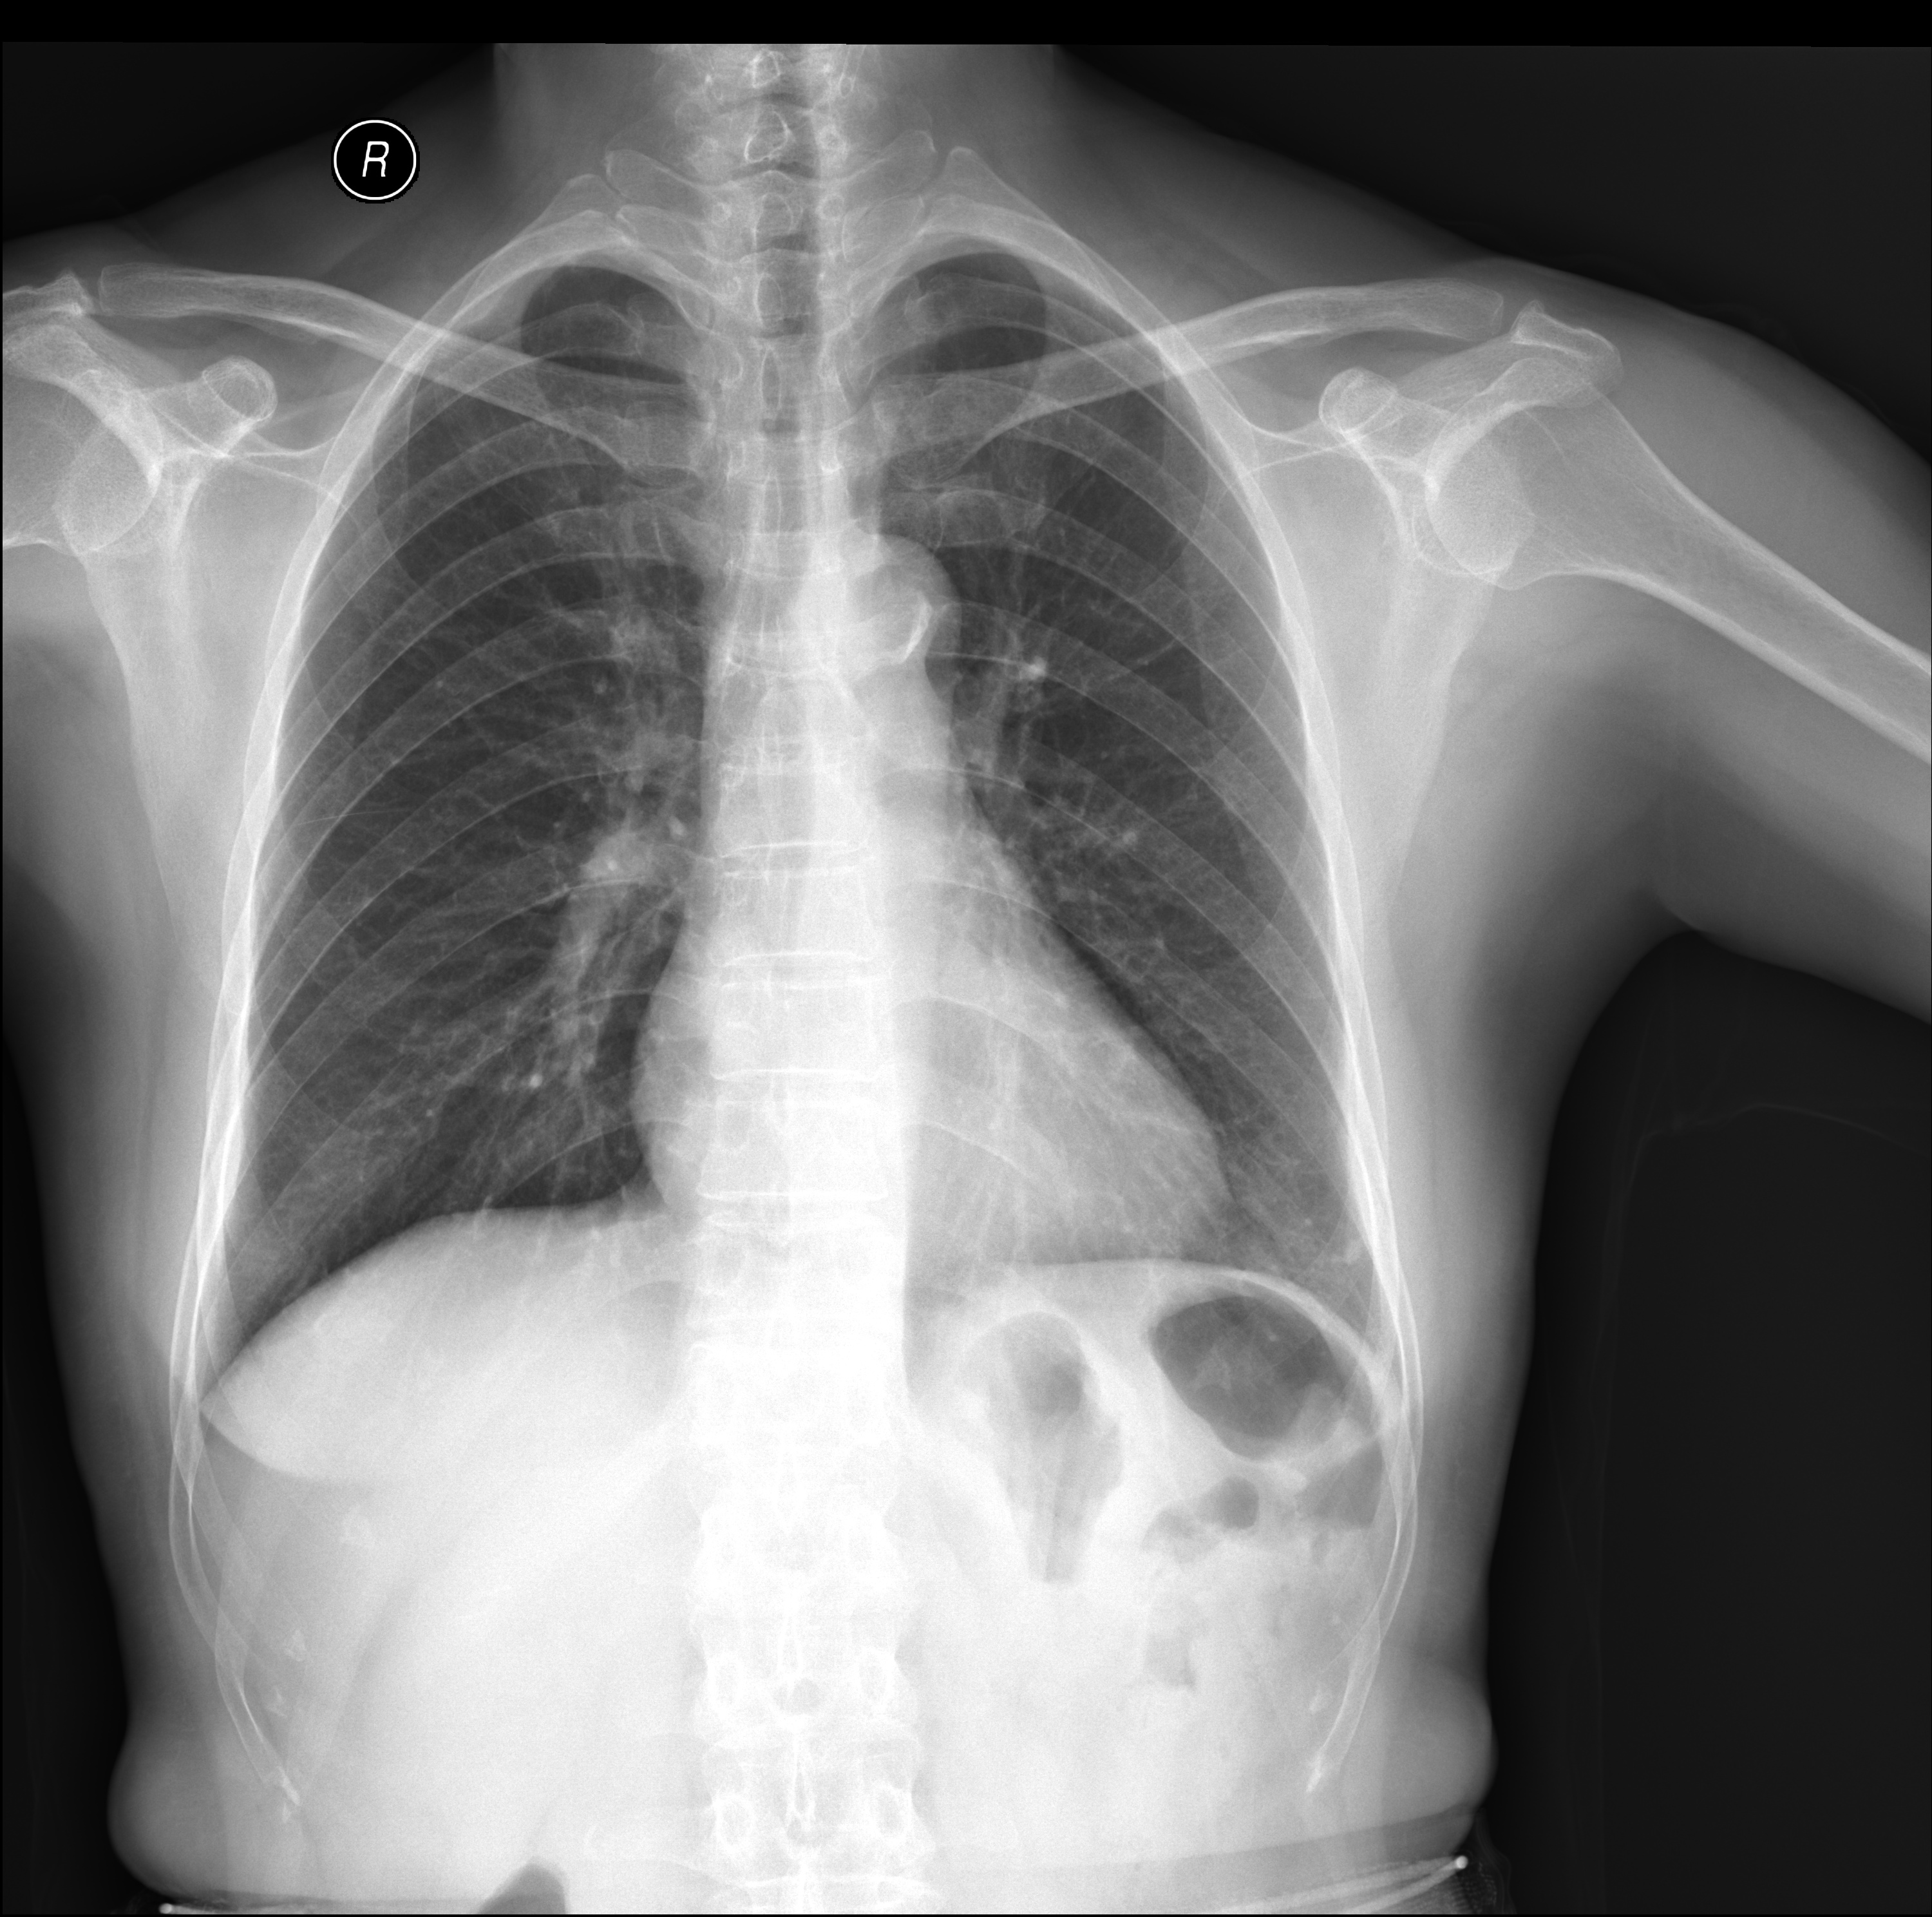nodule: (1295, 1199, 1395, 1285)
